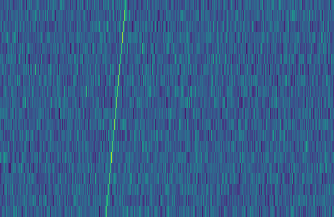signal: (100, 0, 130, 217)
